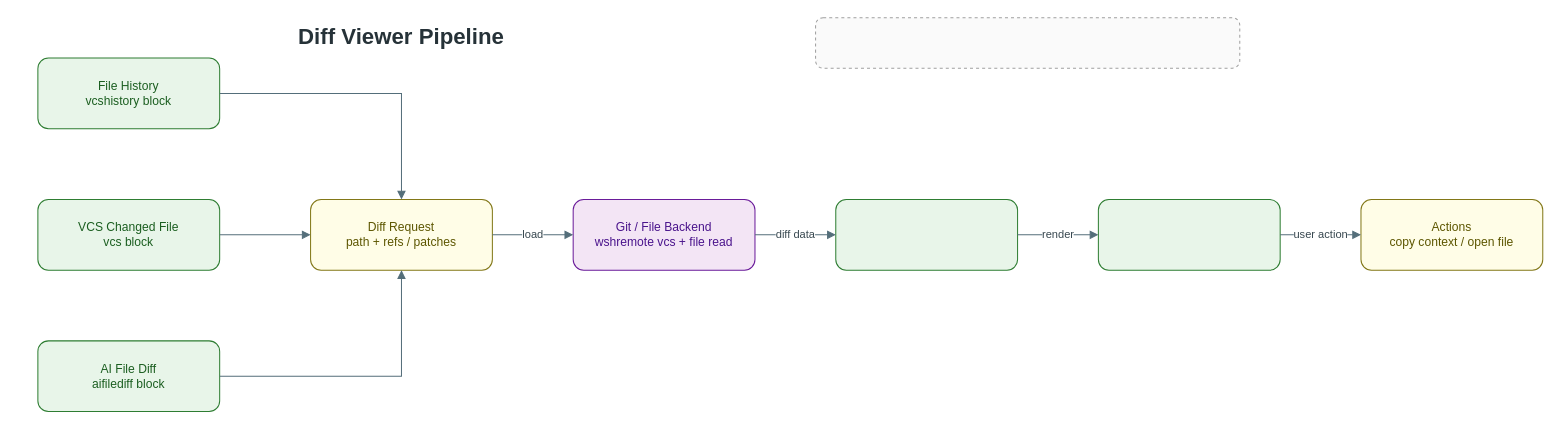
This 1560x429 diagram has some shape labels left out. The centre of each missing label's shape, as x and y in pixels:
Diff Model normalize hunks: the point at 926,234
DiffViewer side-by-side / inline: the point at 1188,234
File history, VCS diff, and AI file diff converge into the visual diff renderer.: the point at 1027,42
